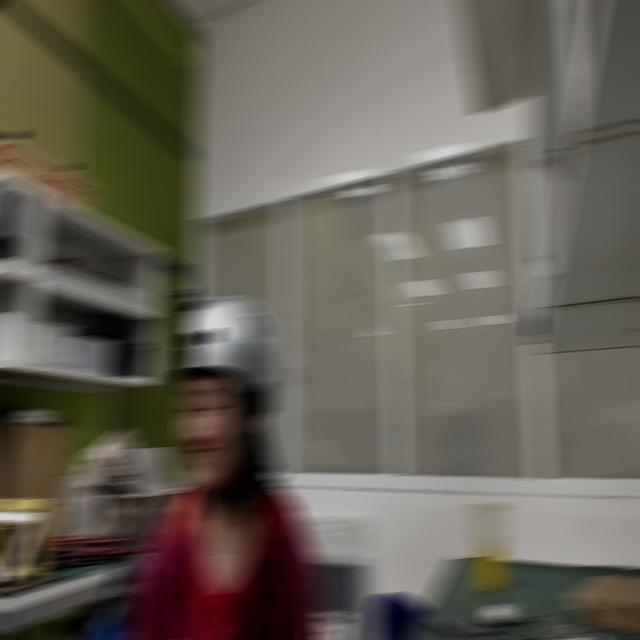With Helmet: (135, 215, 314, 552)
